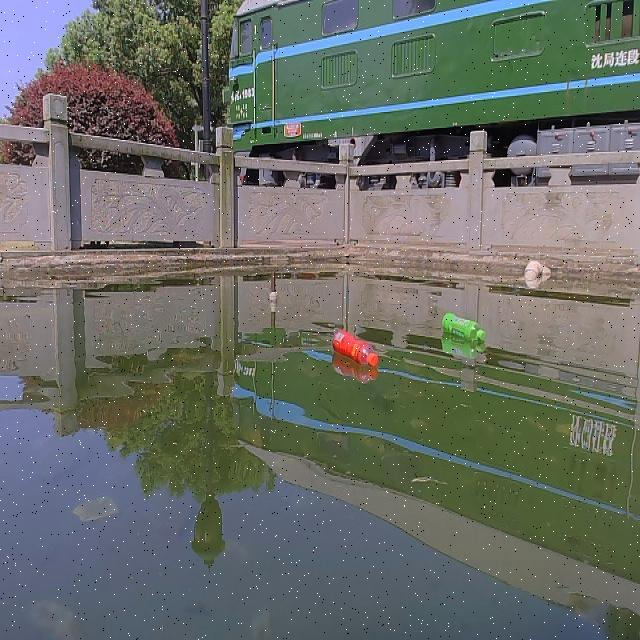Bottle: (331, 324, 379, 368), (439, 308, 485, 345)
